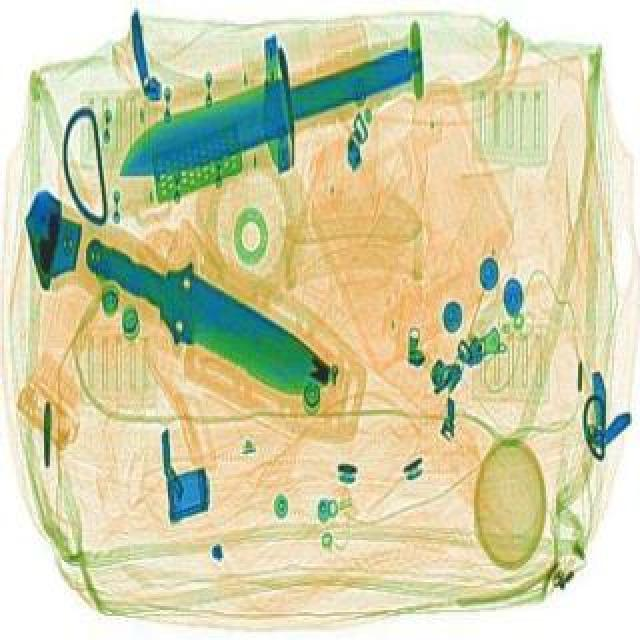knife: (66, 218, 340, 404), (102, 32, 422, 190)
